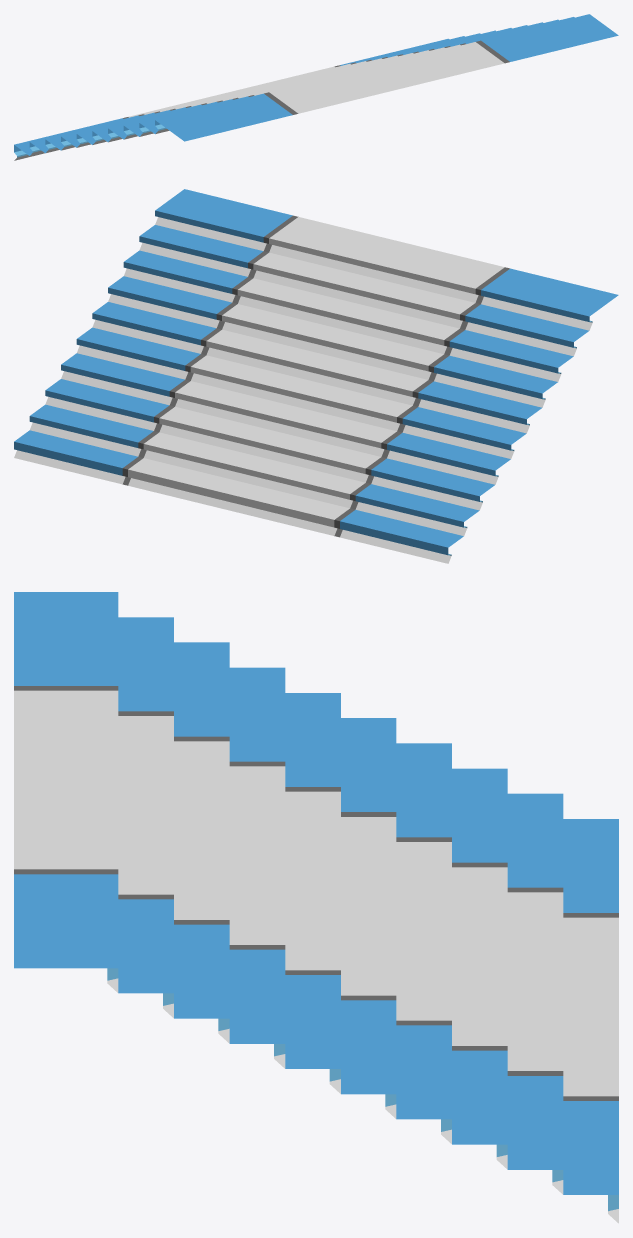
Rendered from StairwayMedium.fbx.
3 renders of one model, top to bottom at view 1: azimuth 30°, elevation 25°; view 2: azimuth 150°, elevation 25°; view 3: azimuth 270°, elevation 25°, orthographic. The views are drawn at different scales.
Parts seen in each view (by area): view 1: StairwayMedium; view 2: StairwayMedium; view 3: StairwayMedium.
Boxes of the visible parts, x1=… form: StairwayMedium: x1=14, y1=14, x2=618, y2=160; StairwayMedium: x1=14, y1=189, x2=618, y2=563; StairwayMedium: x1=14, y1=592, x2=618, y2=1223.
Size of what is drawn, in the model's own units: 8 by 2.54 by 5.44.
